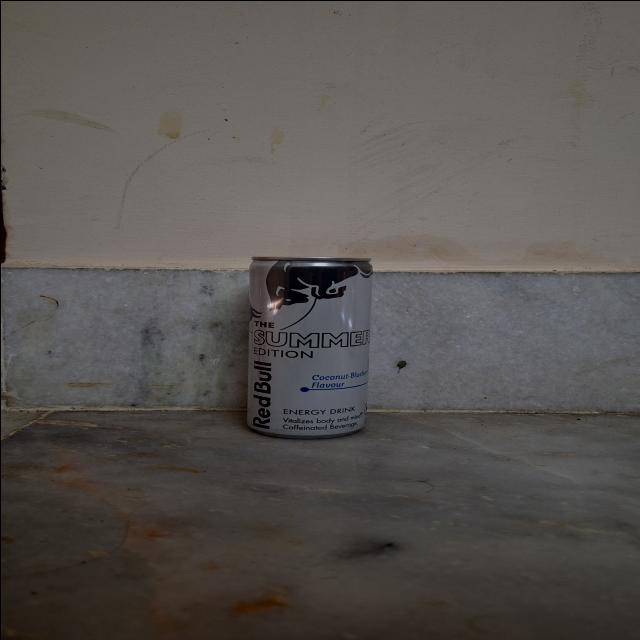Redbull Summer Edition: (242, 248, 380, 446)
